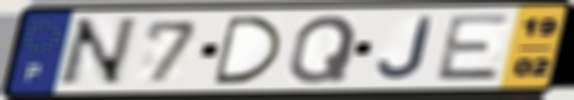7: (143, 18, 201, 85)
D: (211, 15, 286, 87)
E: (431, 12, 515, 83)
J: (374, 15, 437, 82)
N: (51, 15, 142, 89)
Q: (284, 13, 361, 86)
